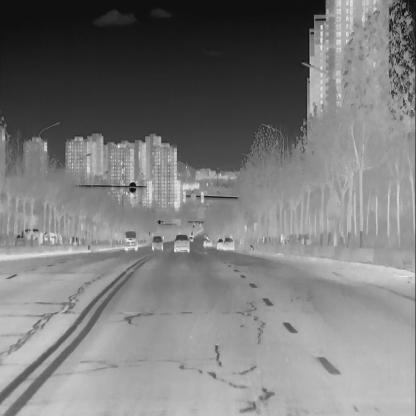car: (41, 230, 63, 248), (17, 226, 39, 244), (173, 232, 190, 252), (221, 236, 236, 251), (151, 234, 163, 250), (216, 237, 224, 250), (203, 237, 212, 248), (188, 235, 194, 243)
truck: (123, 229, 139, 251)
